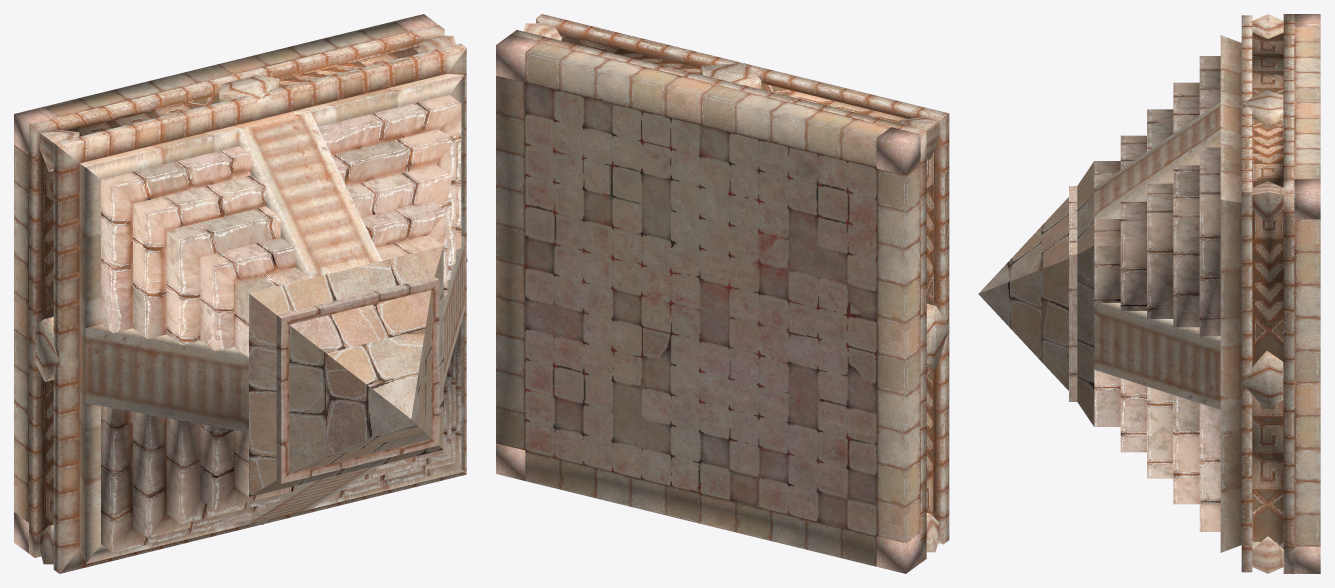
The model's file is FloatingStep000.obj.
3 renders of one model, left to right at view 1: azimuth 30°, elevation 25°; view 2: azimuth 150°, elevation 25°; view 3: azimuth 270°, elevation 25°, orthographic. The views are drawn at different scales.
Parts seen in each view (by area): view 1: pasted__pCube4485__Stone_Lift00, polySurface15__StairStoneBase01, polySurface42__WallBrickBase04, StonePillar_EdgeStone01_low5__StonePillar00; view 2: polySurface15__FloorStoneBase02, pasted__pCube4485__Stone_Lift00, StonePillar_EdgeStone01_low5__StonePillar00; view 3: pasted__pCube4485__Stone_Lift00, polySurface15__StairStoneBase01, polySurface42__WallBrickBase04, StonePillar_EdgeStone01_low5__StonePillar00.
Part boxes in pixels (bbox=[...]): pasted__pCube4485__Stone_Lift00: bbox=[14, 21, 467, 573]; polySurface15__StairStoneBase01: bbox=[101, 95, 461, 552]; polySurface42__WallBrickBase04: bbox=[249, 246, 443, 496]; StonePillar_EdgeStone01_low5__StonePillar00: bbox=[14, 14, 438, 553]; polySurface15__FloorStoneBase02: bbox=[525, 83, 876, 535]; pasted__pCube4485__Stone_Lift00: bbox=[496, 14, 949, 566]; StonePillar_EdgeStone01_low5__StonePillar00: bbox=[496, 34, 920, 573]; pasted__pCube4485__Stone_Lift00: bbox=[1094, 14, 1320, 573]; polySurface15__StairStoneBase01: bbox=[1069, 56, 1220, 531]; polySurface42__WallBrickBase04: bbox=[978, 161, 1094, 426]; StonePillar_EdgeStone01_low5__StonePillar00: bbox=[1294, 14, 1320, 573].
Bounding box in the file's own units: 1400 × 1400 × 1138.
6 materials, 5 textured.
